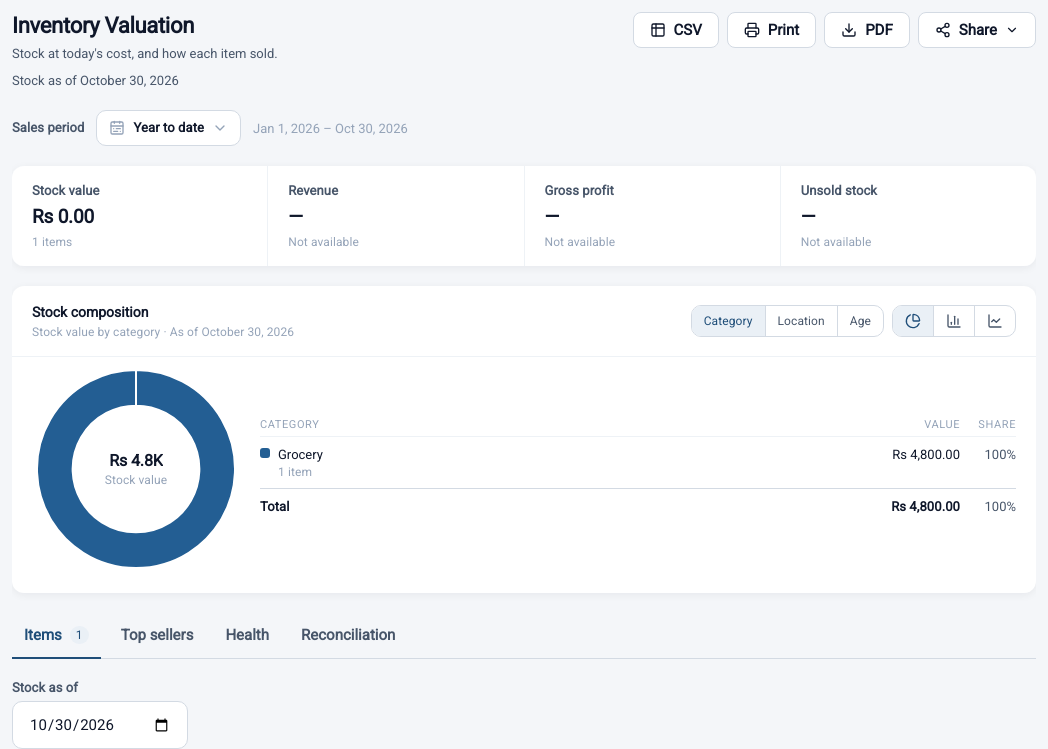
Test: InventoryValuationPage — stock composition › says a category filter is on, where it was picked and over the list, and undoes it
Click the button with aria-label "List the items in Grocery": x=300, y=454 x1=260 y1=445 x2=566 y2=480
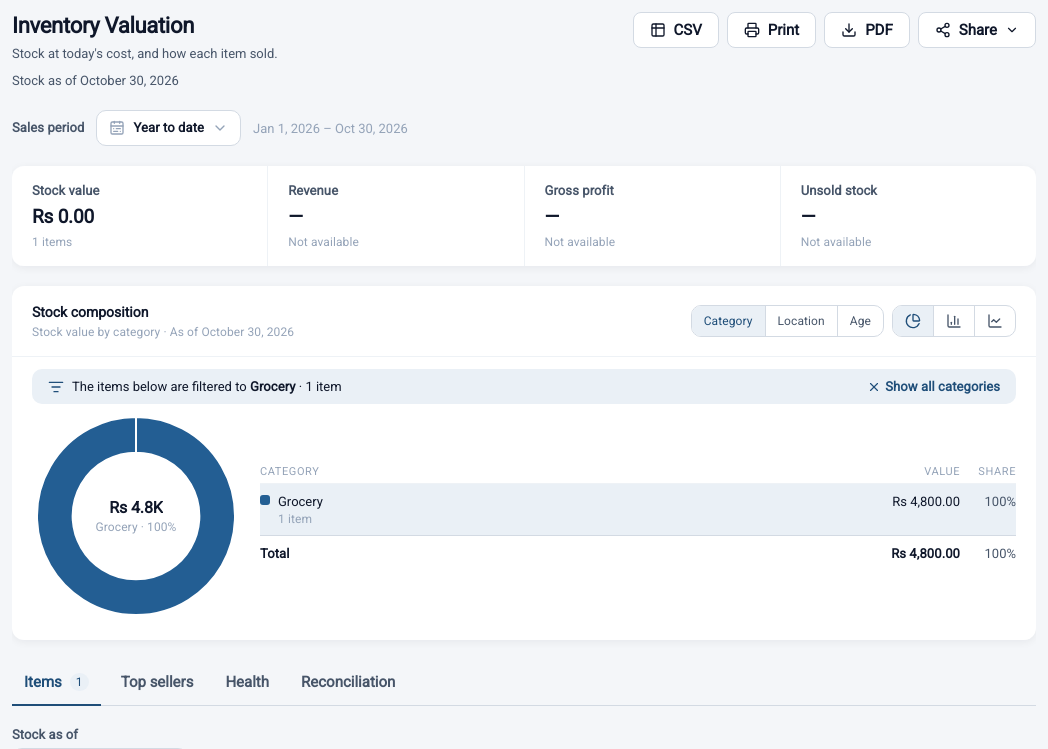
Expected: the text "The items below are filtered to Grocery · 1 item" is shown, x1=72 y1=377 x2=342 y2=396
Click the button "Show all categories": x=934, y=386 x1=867 y1=378 x2=1000 y2=396
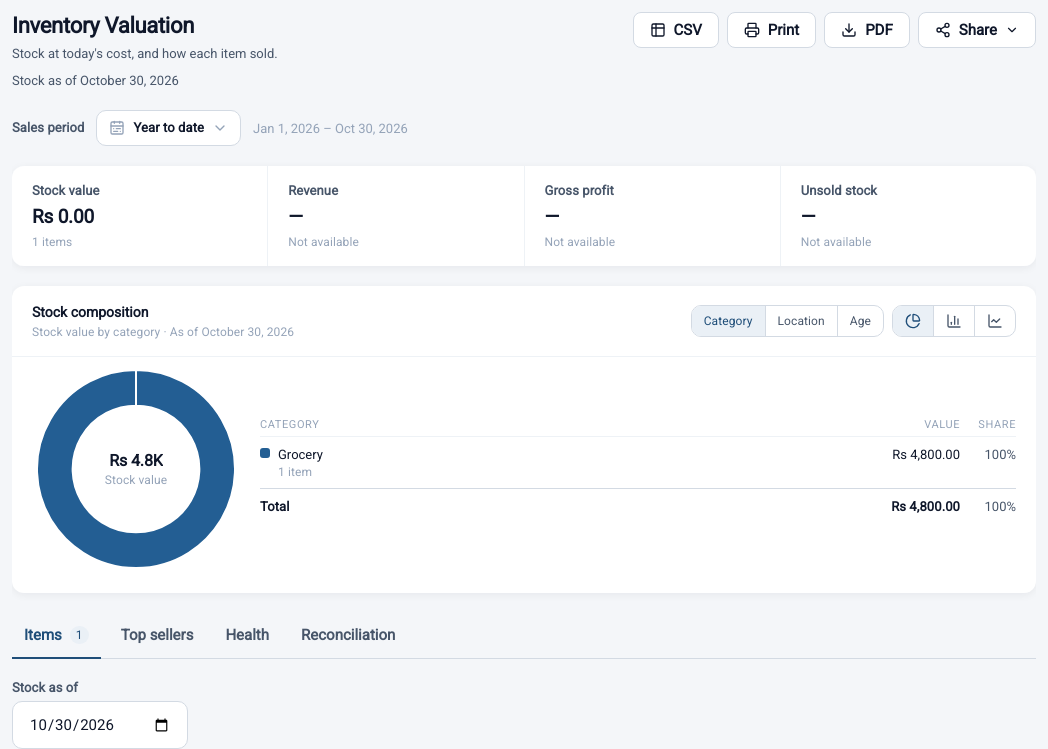
Expected: the text "The items below are filtered to" is gone
